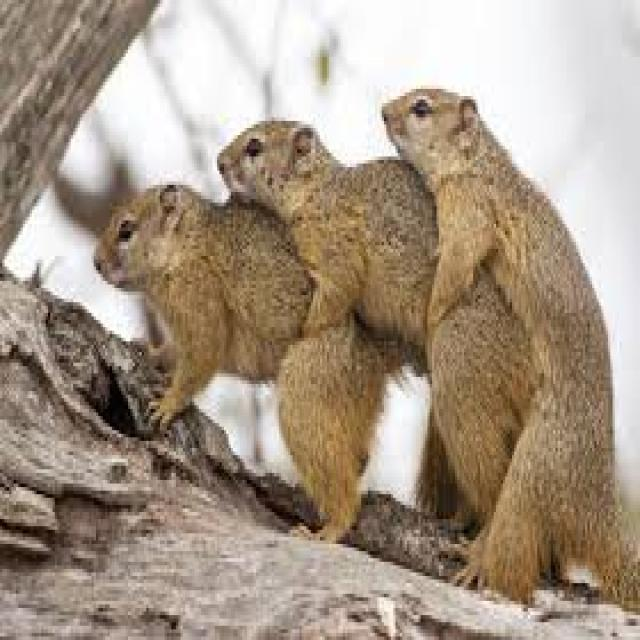Squirrel: (380, 81, 632, 600), (216, 118, 524, 492), (94, 167, 380, 529)
